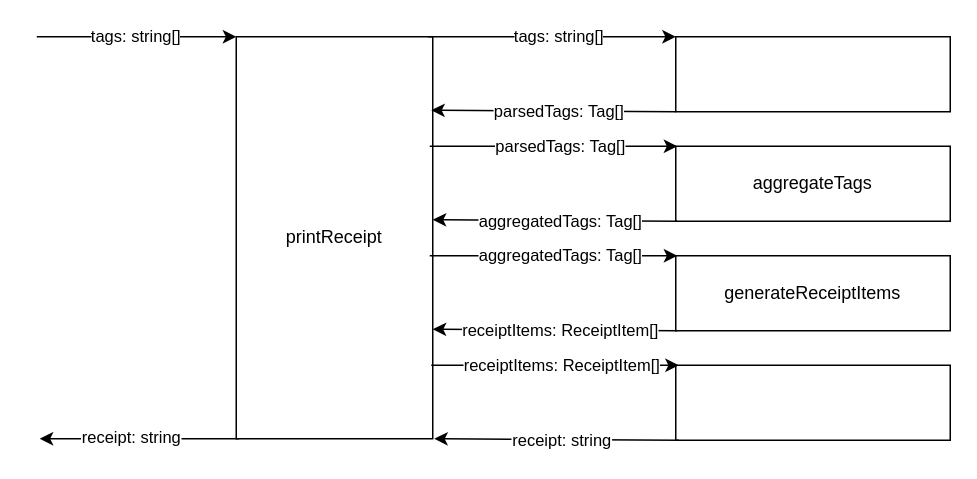
The diagram is 977 pixels wide and 479 high, and some of its shapes have lost their labels. Each missing label, with the centre of its shape:
parseTags: (x=812, y=73)
renderReceipt: (x=812, y=402)
